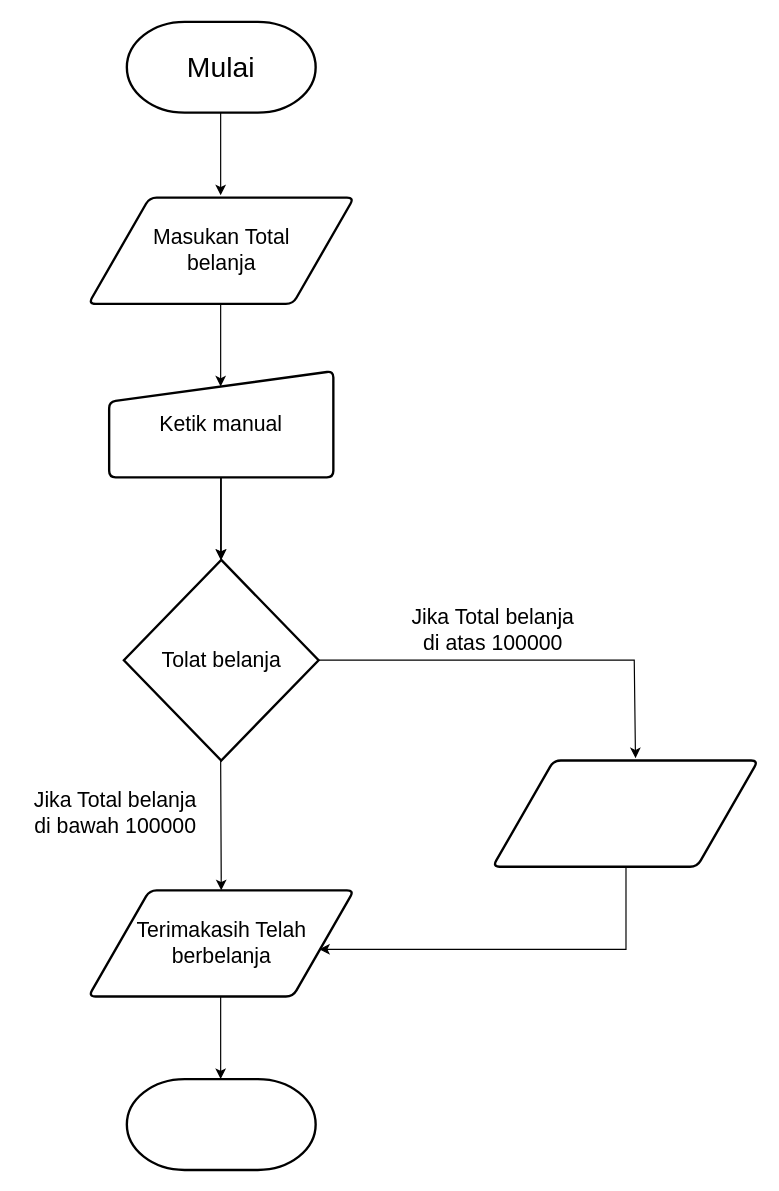
Some shapes in this 779 by 1191 pixel diagram are drawn without their labels. Each missing label, with the centre of its shape:
Dapat Hadiah: the point at 625,813
Selesai: the point at 220,1124
